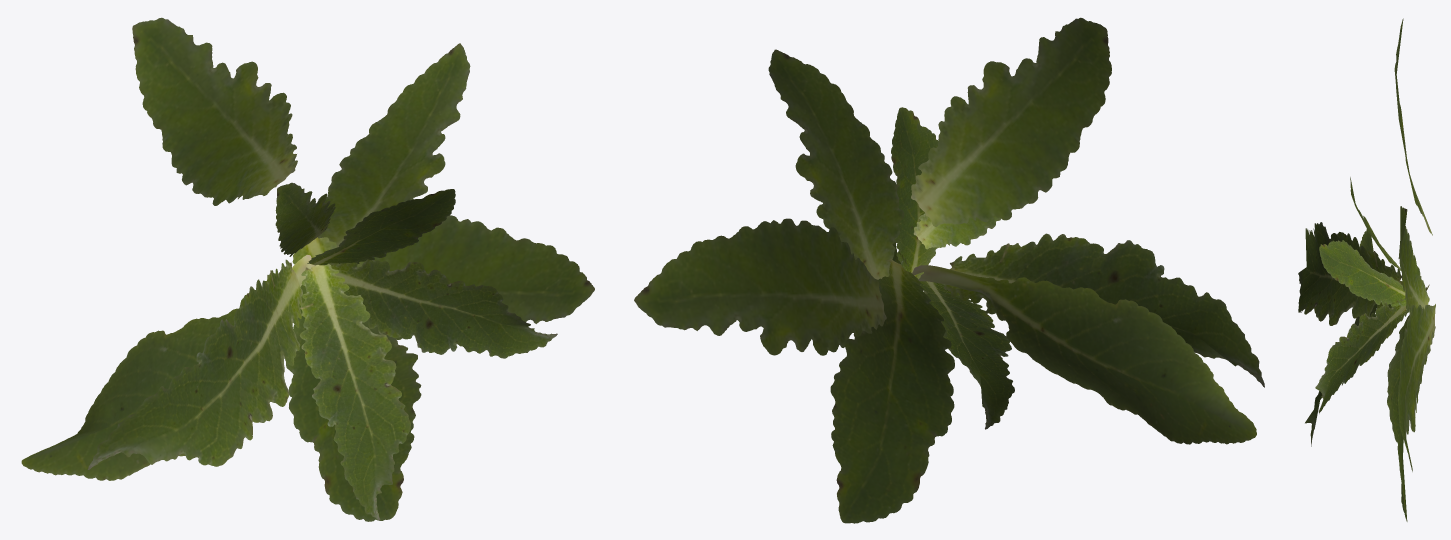
File: Weed_01_Var3_LOD0.fbx
The picture shows the model from 3 angles, left to right: view 1: azimuth 30°, elevation 25°; view 2: azimuth 150°, elevation 25°; view 3: azimuth 270°, elevation 25°; orthographic projection. The views are drawn at different scales.
Visible parts, largest first — view 1: Var3_LOD0; view 2: Var3_LOD0; view 3: Var3_LOD0.
Part boxes in pixels (<box>): Var3_LOD0: <box>21,17,594,521</box>; Var3_LOD0: <box>634,17,1264,523</box>; Var3_LOD0: <box>1298,18,1435,521</box>.
Size of the model in its own units: 19.3 by 17.12 by 5.18.
